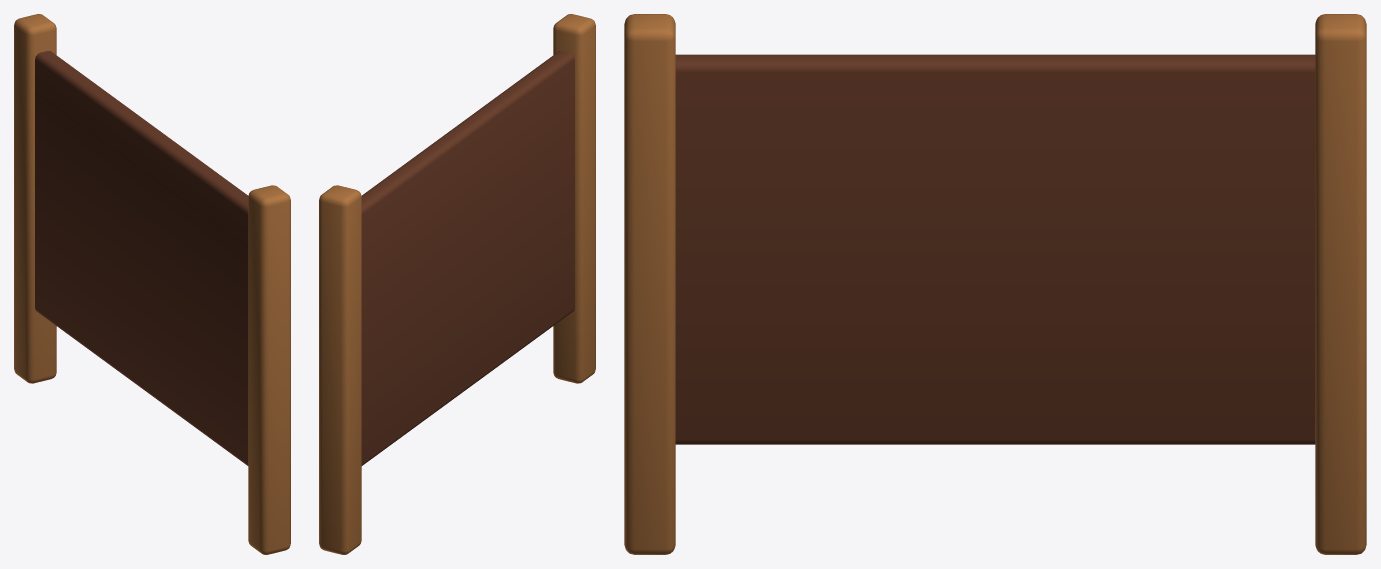
Rendered from QuestBoard 2.fbx.
3 renders of one model, left to right at view 1: azimuth 30°, elevation 25°; view 2: azimuth 150°, elevation 25°; view 3: azimuth 270°, elevation 25°, orthographic. The views are drawn at different scales.
Visible parts, largest first — view 1: Cube.010; view 2: Cube.010; view 3: Cube.010.
Boxes of the visible parts, x1=… form: Cube.010: x1=14, y1=14, x2=290, y2=554; Cube.010: x1=319, y1=14, x2=595, y2=554; Cube.010: x1=624, y1=14, x2=1366, y2=554.
Size of the model in its own units: 47.52 by 538 by 687.
